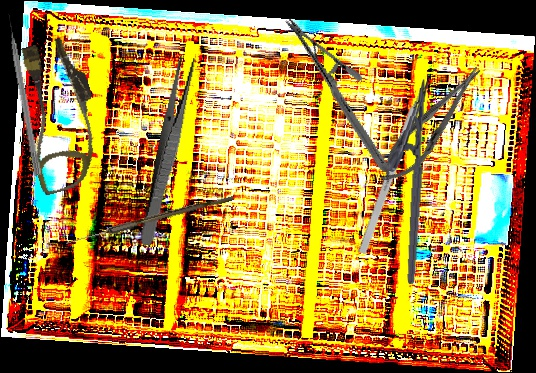Cannula: (3, 33, 115, 197)
Dressing Forceps: (137, 54, 198, 248)
Hook Surgical: (357, 74, 431, 255)
Needle Holder: (244, 16, 431, 174), (371, 57, 493, 193), (378, 76, 431, 285)
Pusher: (5, 12, 43, 177)
Surgical Spoon: (65, 192, 234, 248)
